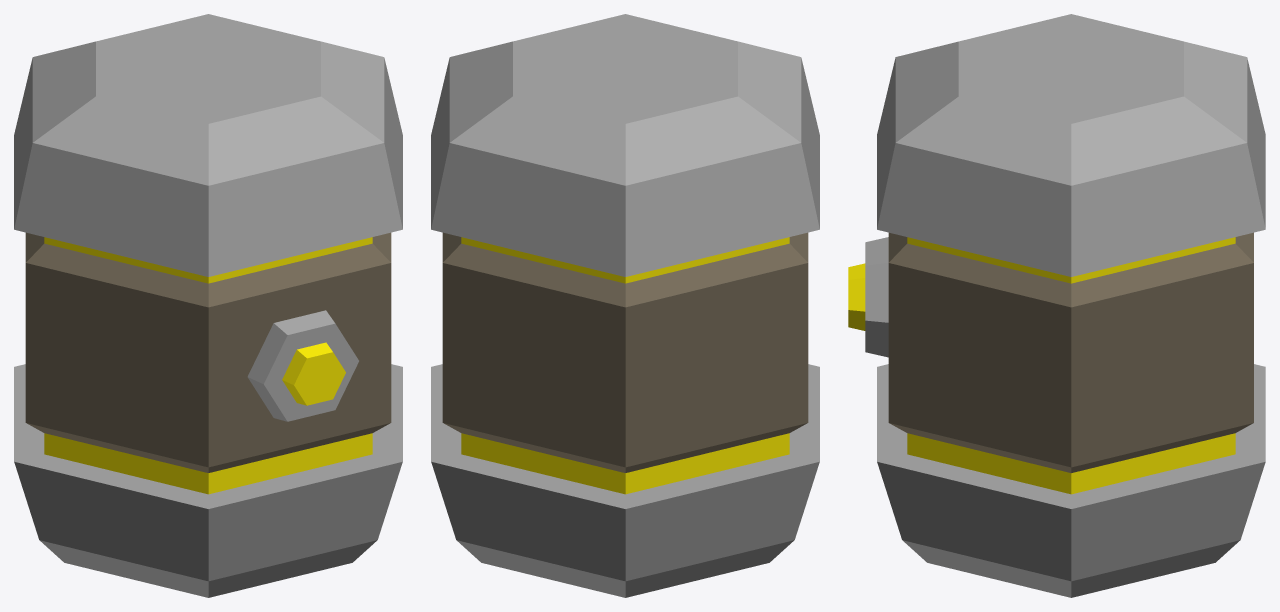
The model's file is Battery 01.FBX.
The picture shows the model from 3 angles, left to right: view 1: azimuth 30°, elevation 25°; view 2: azimuth 150°, elevation 25°; view 3: azimuth 270°, elevation 25°; orthographic projection.
Visible parts, largest first — view 1: Battery 01; view 2: Battery 01; view 3: Battery 01.
Boxes of the visible parts, box(x1,y1,x2,y2) form: Battery 01: box(14, 14, 402, 597); Battery 01: box(431, 14, 819, 597); Battery 01: box(848, 14, 1265, 597).
Size of the model in its own units: 42.9 by 48.37 by 39.9.
1 material, 1 textured.
